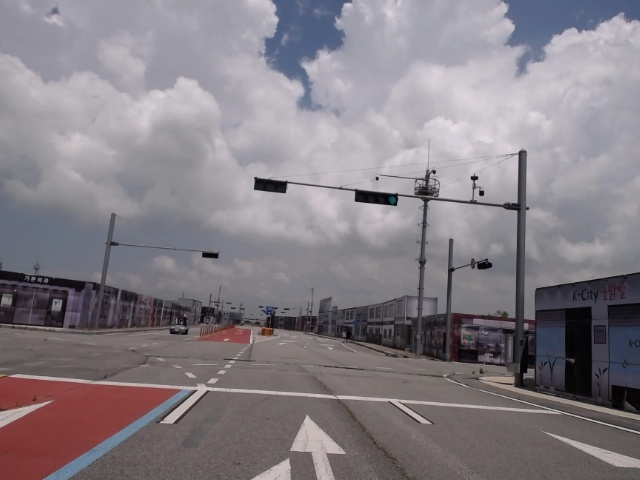straight_green_4: (357, 192, 396, 207)
